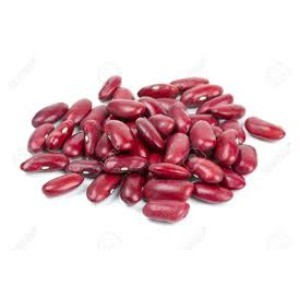beans_brain food: (67, 100, 246, 189)
